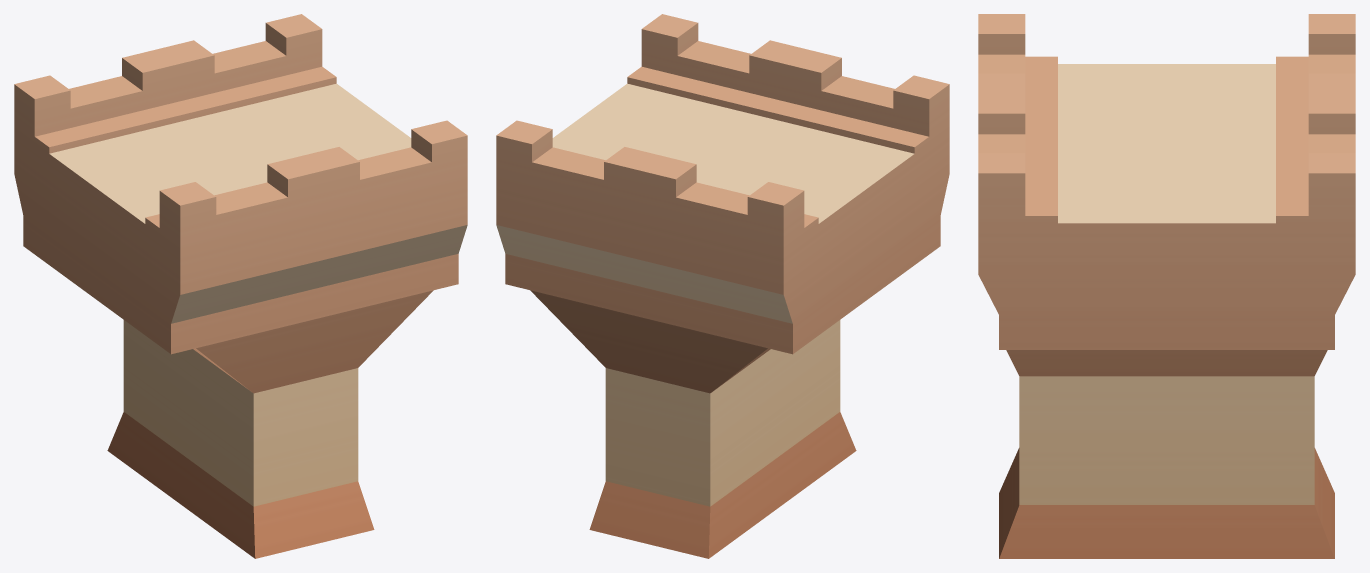
Rendered from bridge-straight-pillar.obj.
3 renders of one model, left to right at view 1: azimuth 30°, elevation 25°; view 2: azimuth 150°, elevation 25°; view 3: azimuth 270°, elevation 25°, orthographic. The views are drawn at different scales.
Visible parts, largest first — view 1: bridge-straight-pillar; view 2: bridge-straight-pillar; view 3: bridge-straight-pillar.
Part boxes in pixels (x1=…): bridge-straight-pillar: x1=14, y1=14, x2=467, y2=558; bridge-straight-pillar: x1=496, y1=14, x2=949, y2=558; bridge-straight-pillar: x1=978, y1=14, x2=1355, y2=558.
Size of the model in its own units: 0.93 by 1.18 by 0.93.
Materials: 1 (1 with a texture image).
